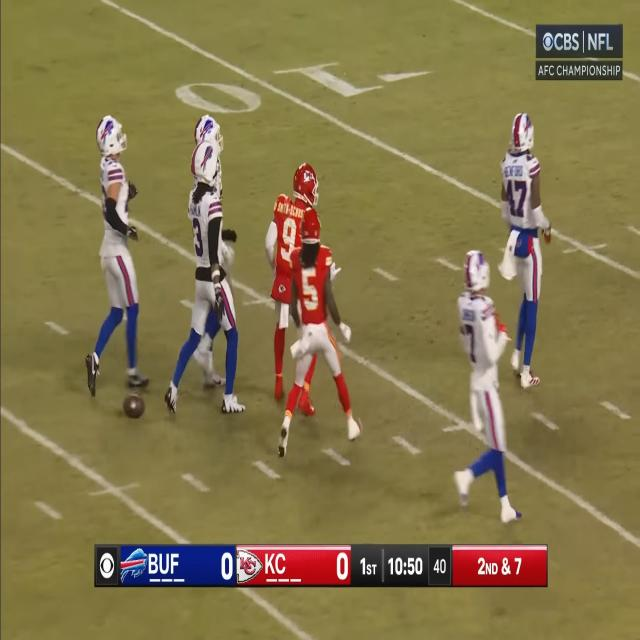Ball: (123, 394, 146, 419)
